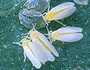whitefly: (24, 22, 59, 62), (12, 35, 45, 69), (39, 1, 77, 26), (47, 25, 84, 46)
